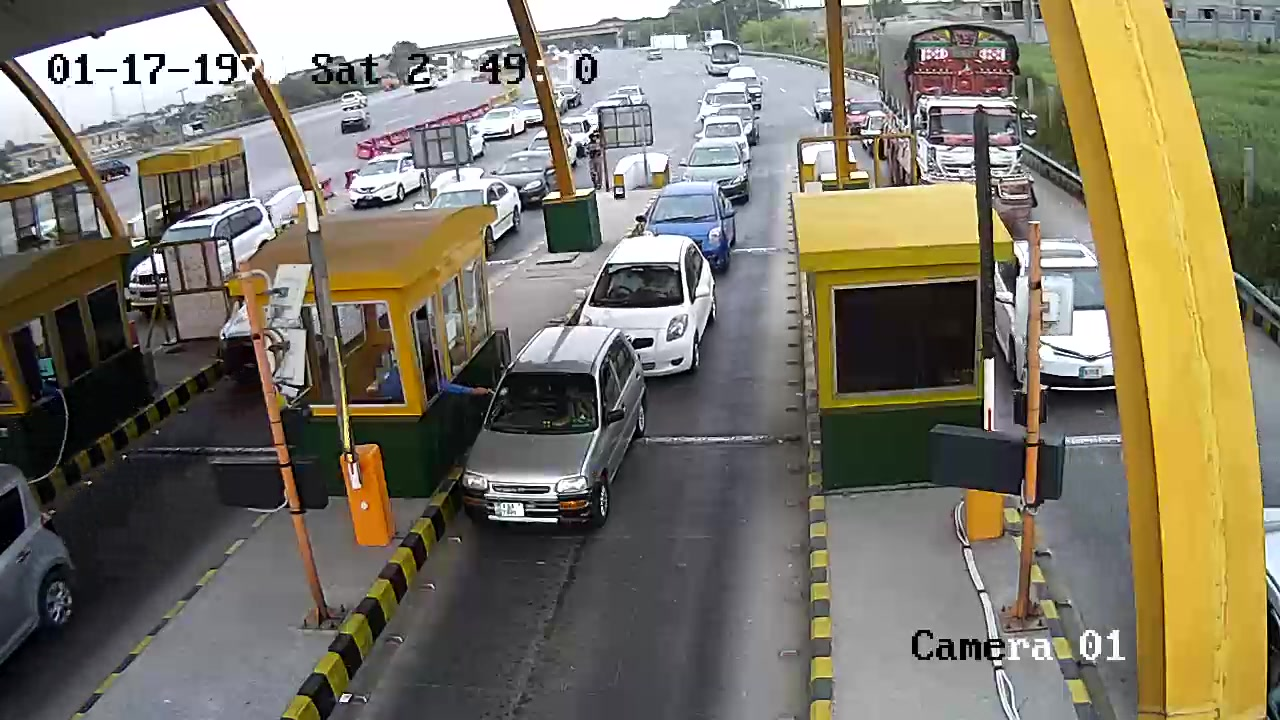F1: (456, 324, 645, 535)
